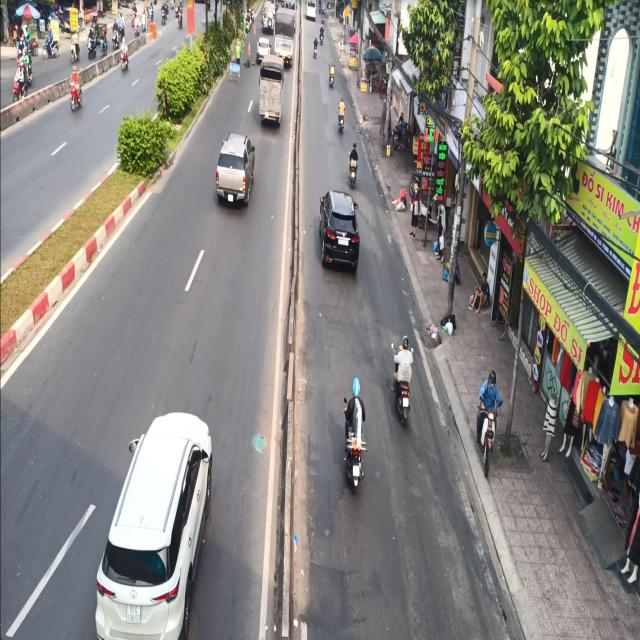car: (96, 404, 216, 640), (215, 122, 257, 220), (315, 184, 360, 273)
motor: (338, 375, 368, 496), (475, 357, 501, 475), (385, 329, 415, 429), (348, 131, 360, 191)
truck: (258, 56, 286, 132)
